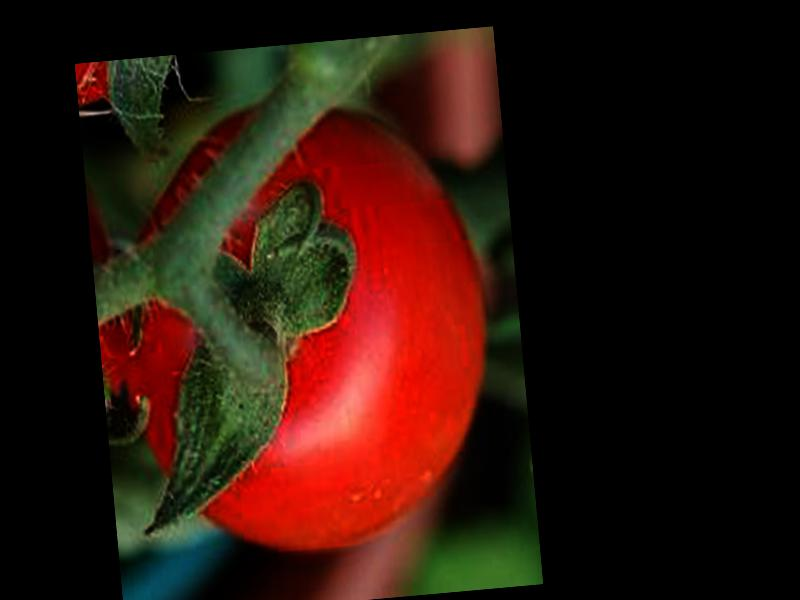Tomato: (89, 84, 503, 568)
